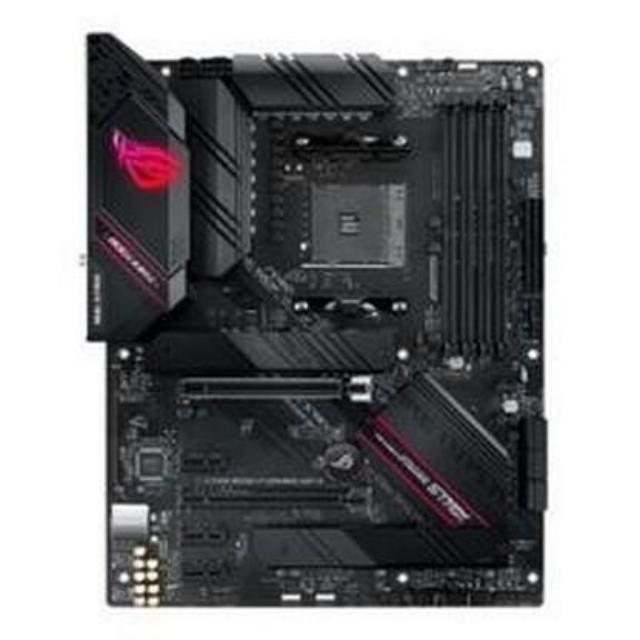Mainboard: (87, 46, 553, 614)
